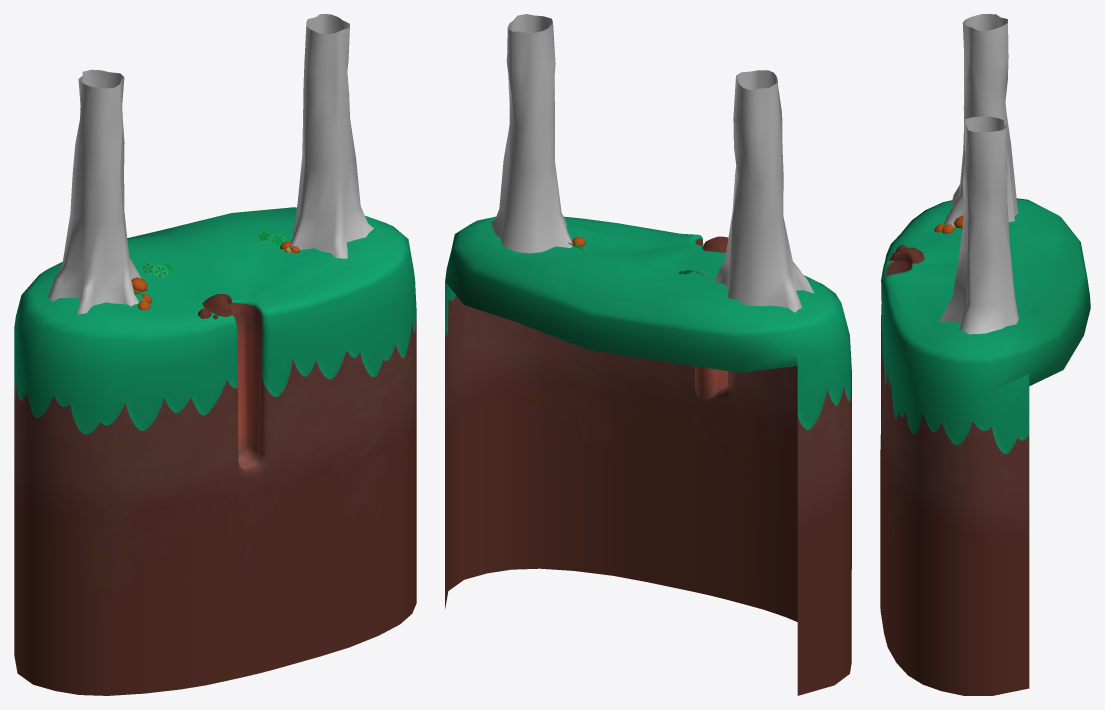
Rendered from Land_End.fbx.
3 views of the same model, side by side, from view 1: azimuth 30°, elevation 25°; view 2: azimuth 150°, elevation 25°; view 3: azimuth 270°, elevation 25° (orthographic). The views are drawn at different scales.
Visible parts, largest first — view 1: Land_End, L_Tree_END, R_Tree_END; view 2: Land_End, L_Tree_END, R_Tree_END; view 3: Land_End, R_Tree_END, L_Tree_END.
Part boxes in pixels (x1,y1,x2,y2): Land_End: [14, 207, 416, 695]; L_Tree_END: [47, 69, 141, 314]; R_Tree_END: [289, 14, 373, 258]; Land_End: [445, 216, 851, 695]; L_Tree_END: [714, 70, 814, 312]; R_Tree_END: [491, 14, 572, 253]; Land_End: [880, 198, 1090, 695]; R_Tree_END: [939, 116, 1018, 334]; L_Tree_END: [944, 14, 1018, 227].
Size of the model in its own units: 270 by 390 by 139.
